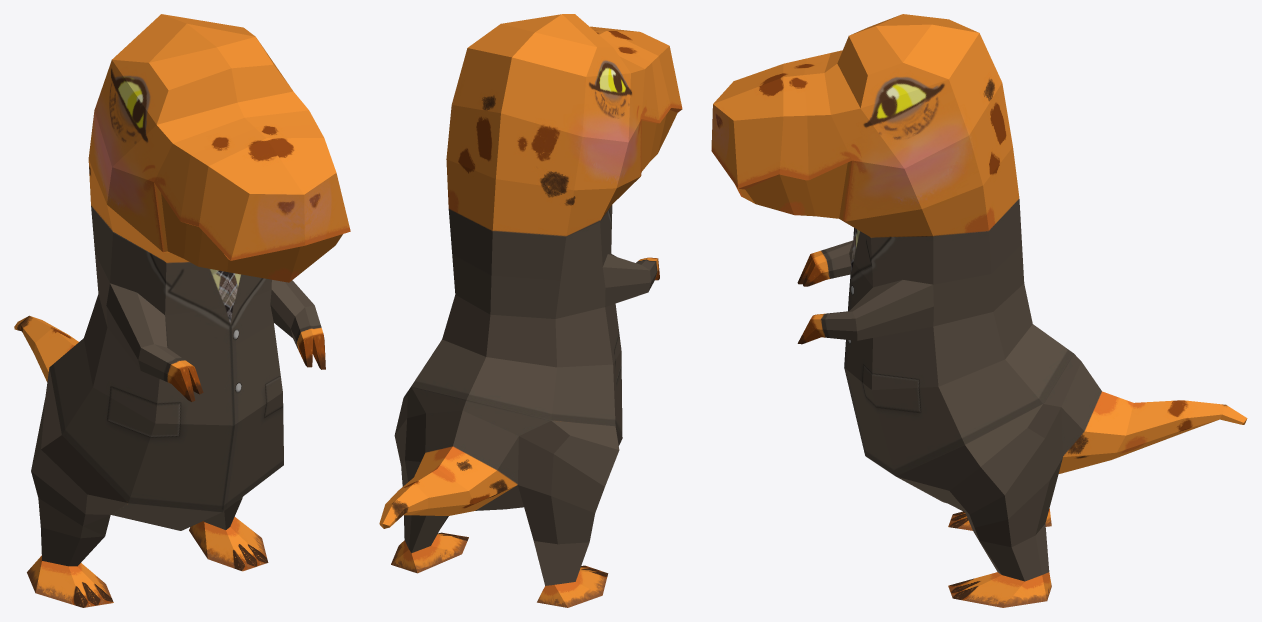
File: ManagerThor.glb
3 renders of one model, left to right at view 1: azimuth 30°, elevation 25°; view 2: azimuth 150°, elevation 25°; view 3: azimuth 270°, elevation 25°, orthographic. The views are drawn at different scales.
Visible parts, largest first — view 1: Dino; view 2: Dino; view 3: Dino.
Boxes of the visible parts, box(x1,y1,x2,y2) form: Dino: box(14, 14, 350, 607); Dino: box(379, 14, 682, 607); Dino: box(711, 14, 1247, 607).
Size of the model in its own units: 0.3254 by 0.7394 by 0.6754.
1 material, 1 textured.
